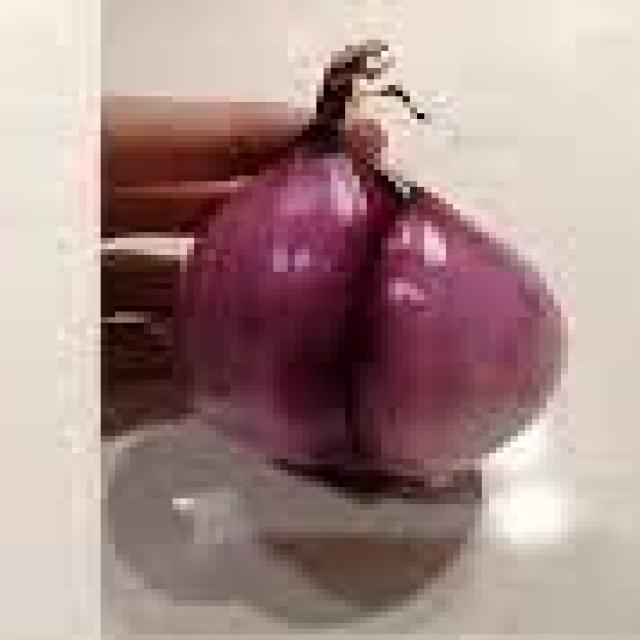Onion: (173, 124, 604, 498)
